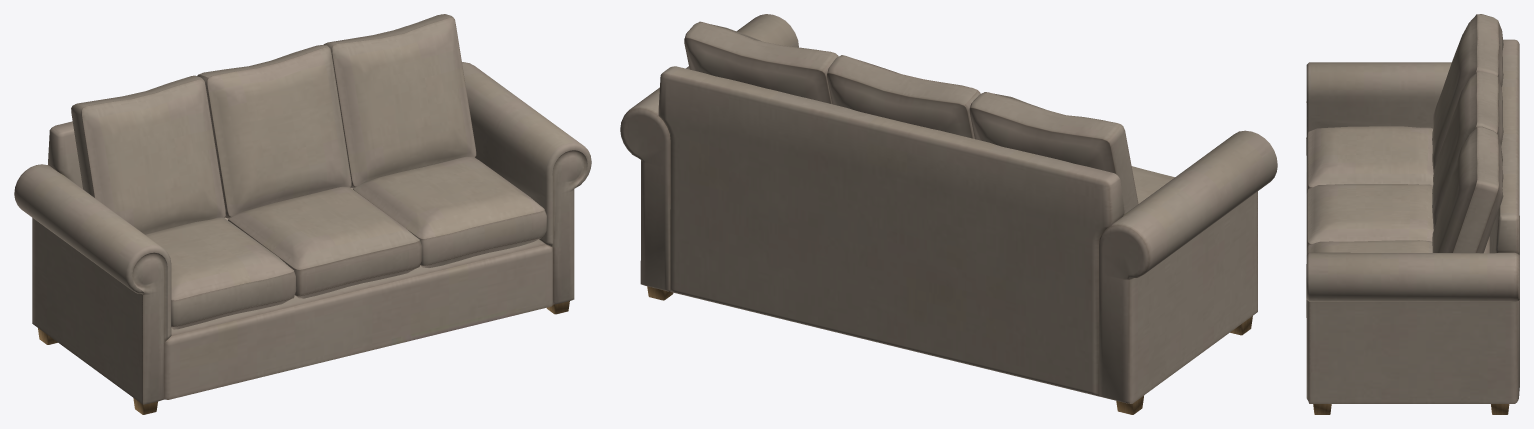
File: office-sofa.glb
The picture shows the model from 3 angles, left to right: view 1: azimuth 30°, elevation 25°; view 2: azimuth 150°, elevation 25°; view 3: azimuth 270°, elevation 25°; orthographic projection. The views are drawn at different scales.
Parts seen in each view (by area): view 1: Sofa_3seat; view 2: Sofa_3seat; view 3: Sofa_3seat.
Part boxes in pixels (x1,y1,x2,y2): Sofa_3seat: [14, 14, 591, 414]; Sofa_3seat: [620, 14, 1277, 414]; Sofa_3seat: [1306, 14, 1519, 414].
Bounding box in the file's own units: 1.72 × 0.84 × 0.7339.
1 material, 1 textured.
